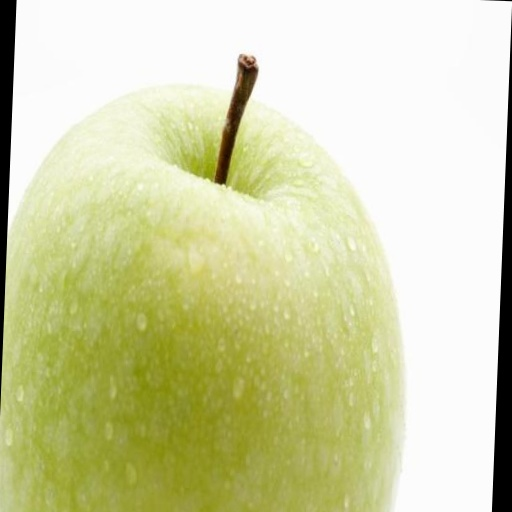fruit: (0, 86, 403, 512)
